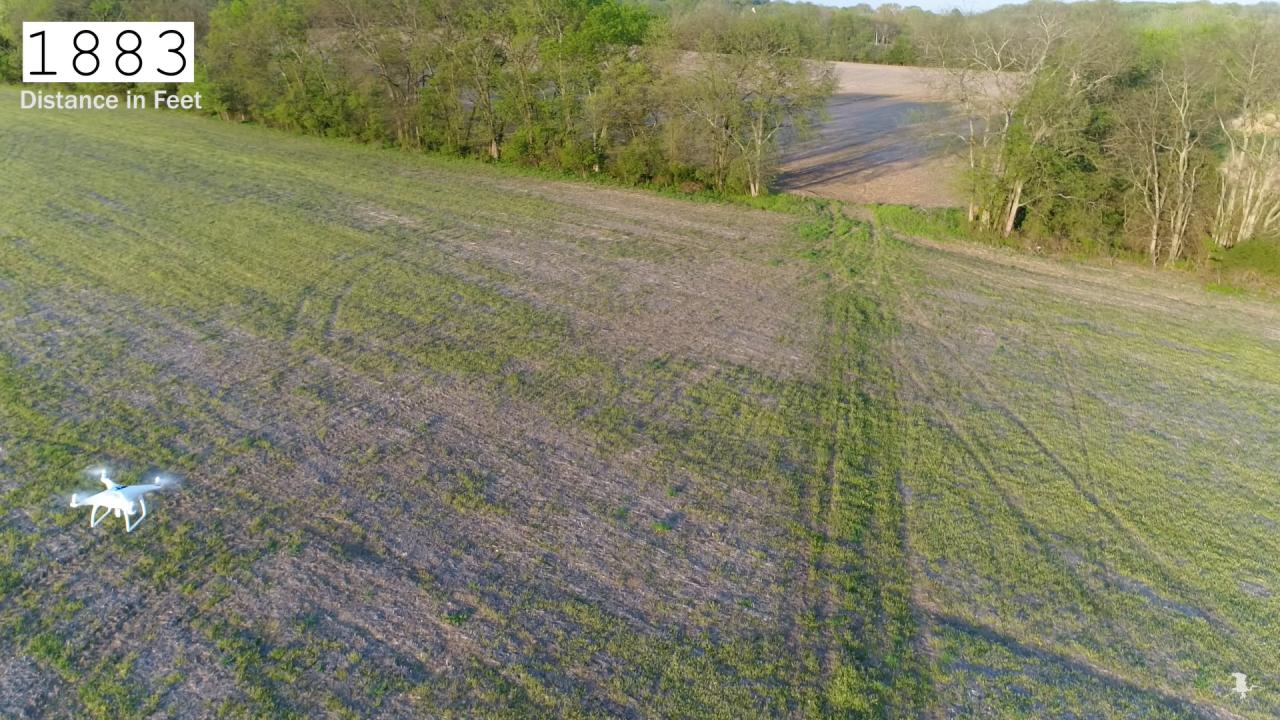Drone: (43, 448, 189, 548)
